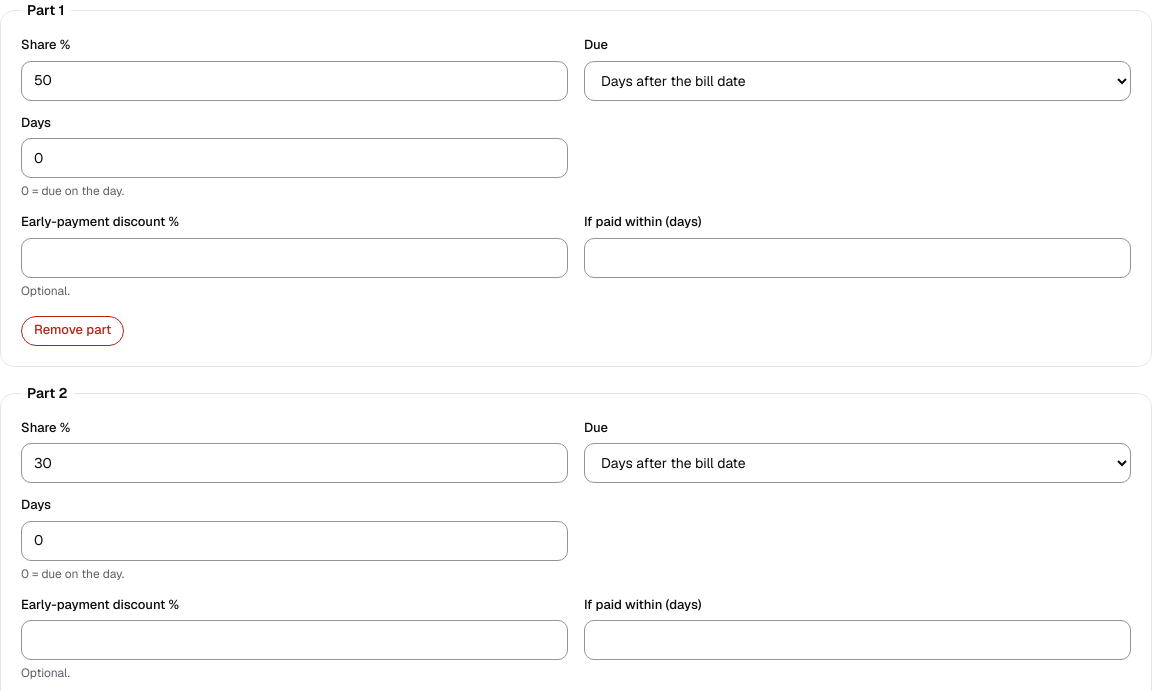
Test: TermsPartsEditor › shows the shares-total error until the parts add up to 100%
Replace the text in the 2nd field labelled "Share %" with "50" at [294, 463], box [21,443,568,483]
(page scrolled)
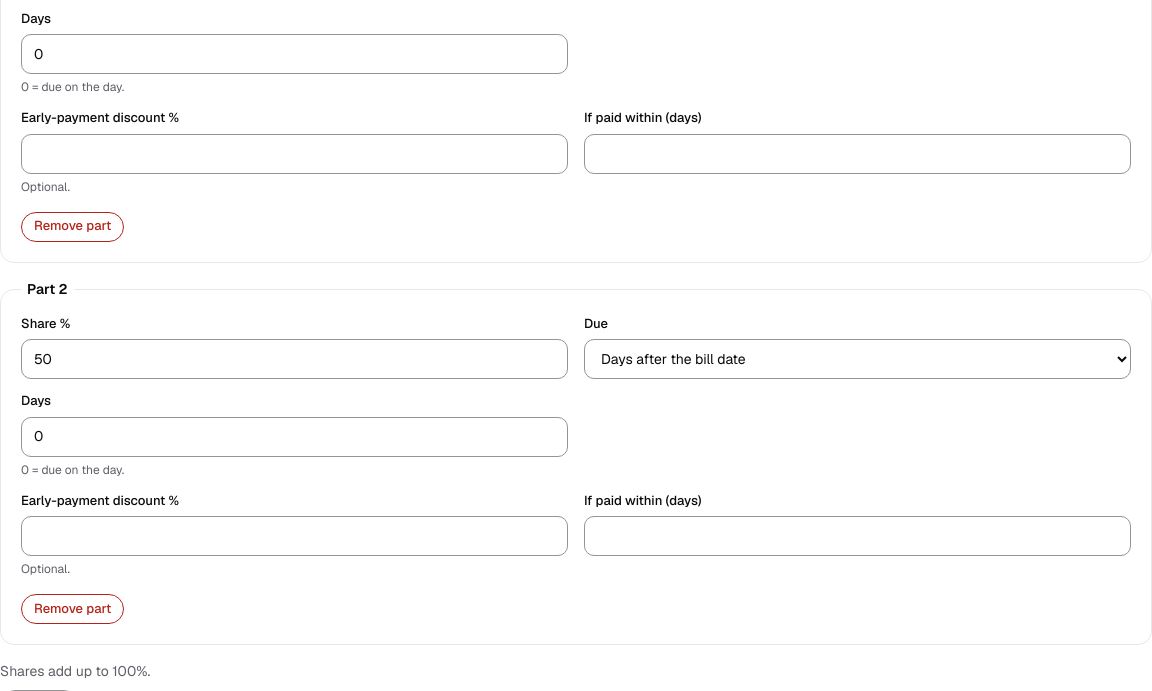
Check: the text "Shares add up to 100%." is shown, box [0,662,150,680]
